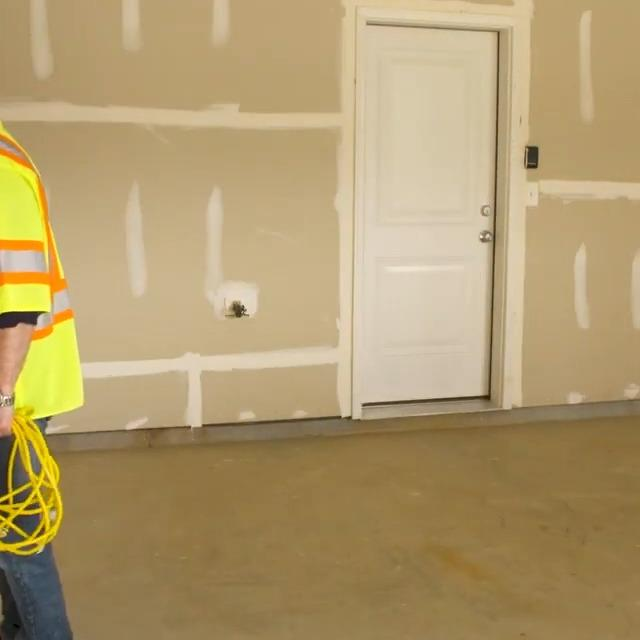Person: (0, 1, 76, 640)
Safety Vest: (0, 119, 81, 379)
